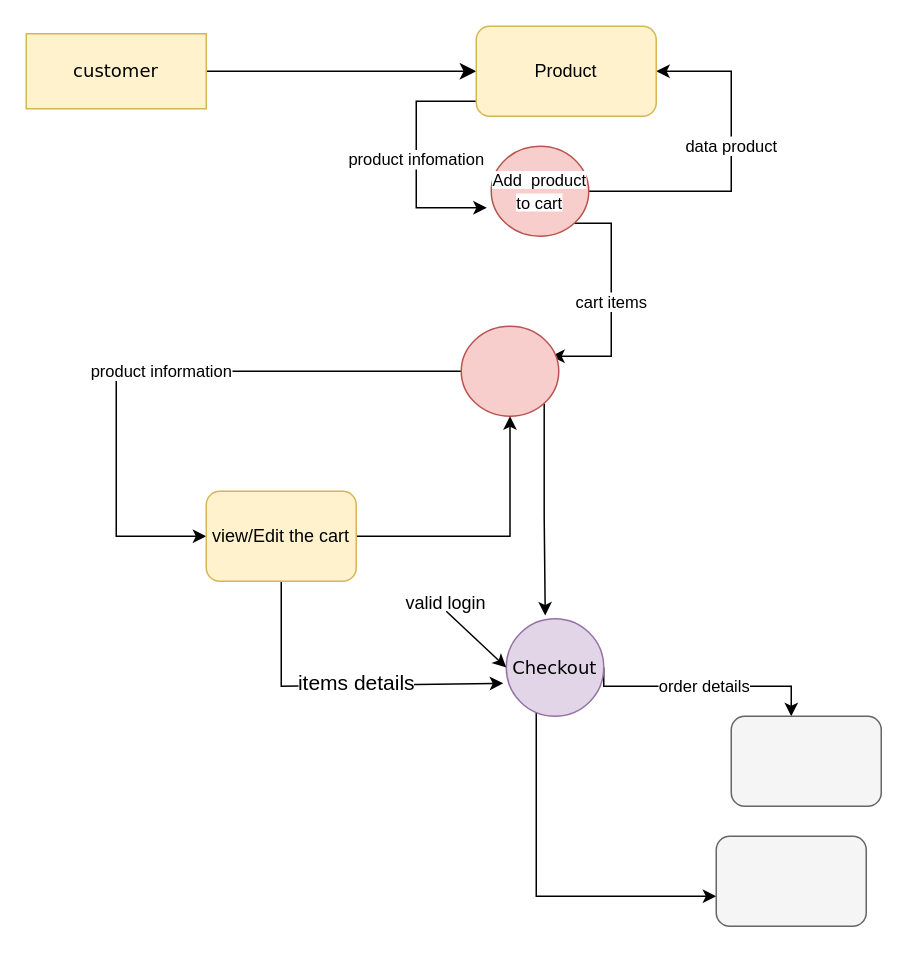
Some shapes in this 908 by 953 pixel diagram are drawn without their labels. Each missing label, with the centre of its shape:
shipping details: (x=790, y=880)
shopping cart: (x=509, y=370)
transition report: (x=805, y=760)
